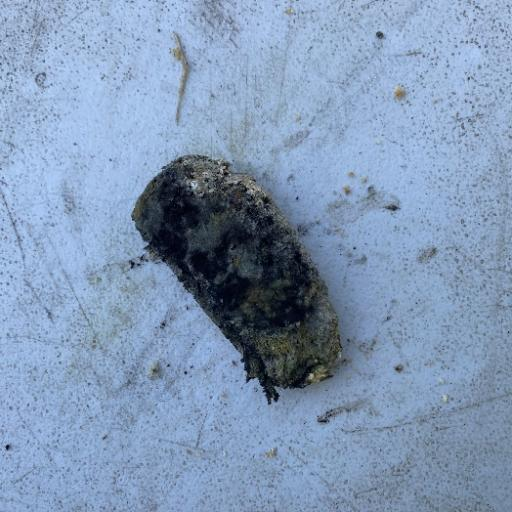Waste: (129, 152, 344, 404)
